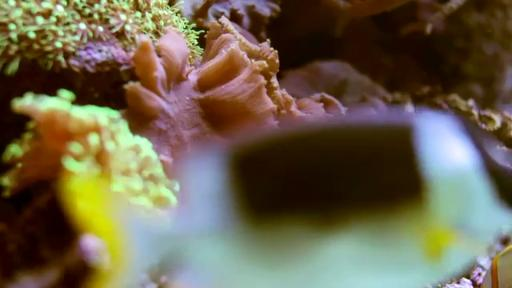Fish: (60, 112, 511, 287), (177, 112, 511, 287), (58, 174, 172, 287), (483, 246, 511, 287)
